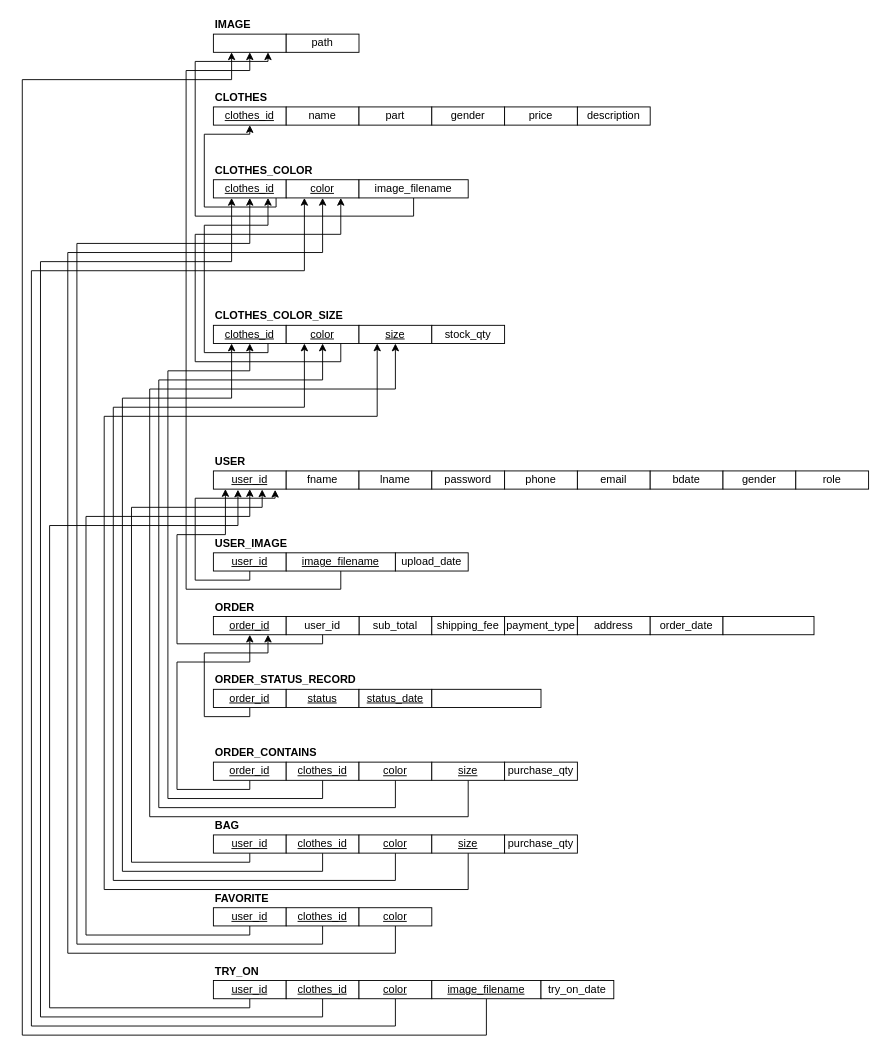
The diagram is 885 pixels wide and 1058 high, and some of its shapes have lost their labels. The centre of each missing label's shape, as x and y in pixels:
filename: point 249,42
ideal_rcv_date: point 768,625
status_description: point 486,698
